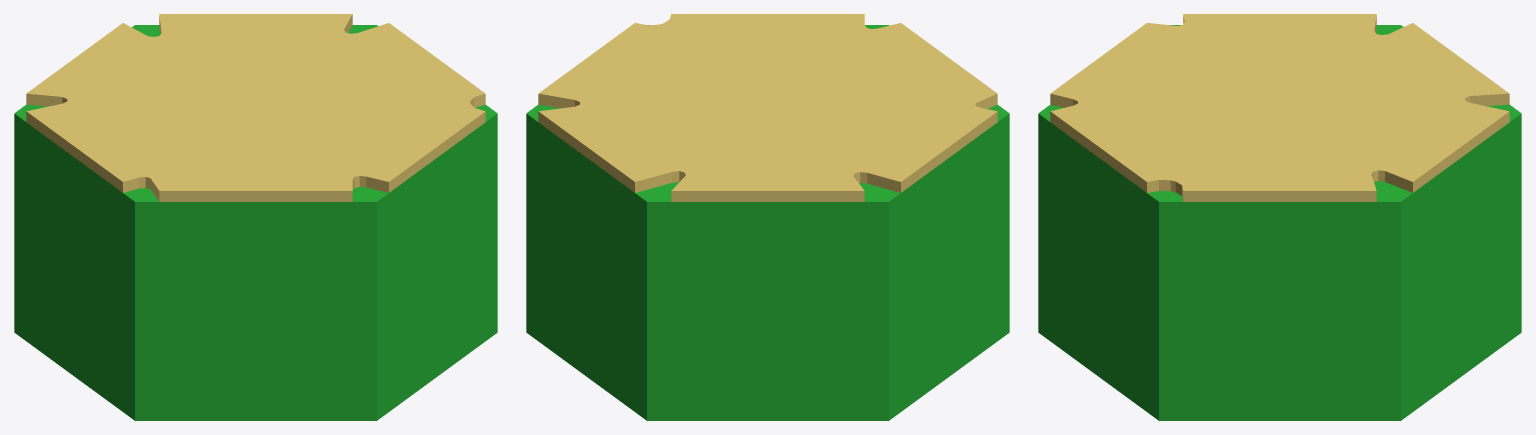
File: module-corner_land_path_full.glb
3 views of the same model, side by side, from view 1: azimuth 30°, elevation 25°; view 2: azimuth 150°, elevation 25°; view 3: azimuth 270°, elevation 25° (orthographic).
Visible parts, largest first — view 1: module-corner_land_path_full; view 2: module-corner_land_path_full; view 3: module-corner_land_path_full.
Boxes of the visible parts, x1,y1,x2,y2 form: module-corner_land_path_full: [14, 14, 497, 420]; module-corner_land_path_full: [526, 14, 1009, 420]; module-corner_land_path_full: [1038, 14, 1521, 420].
Bounding box in the file's own units: 0.866 × 0.525 × 1.
